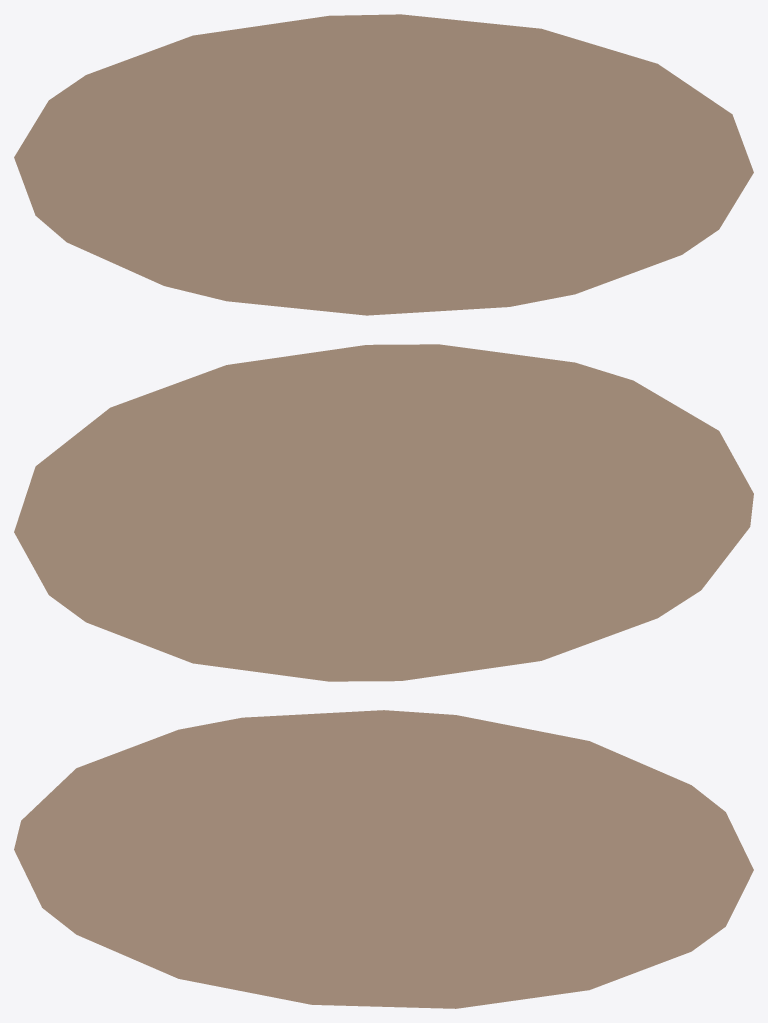
Rendered from snare.gltf.
3 renders of one model, top to bottom at view 1: azimuth 30°, elevation 25°; view 2: azimuth 150°, elevation 25°; view 3: azimuth 270°, elevation 25°, orthographic. The views are drawn at different scales.
Visible parts, largest first — view 1: SnareSurface; view 2: SnareSurface; view 3: SnareSurface.
Part boxes in pixels (x1,y1,x2,y2): SnareSurface: [14, 14, 753, 315]; SnareSurface: [14, 344, 753, 681]; SnareSurface: [14, 710, 753, 1008].
Size of the model in its own units: 3.03 by 0.0969 by 3.19.
